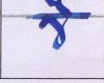ai_matra: (44, 0, 73, 12)
